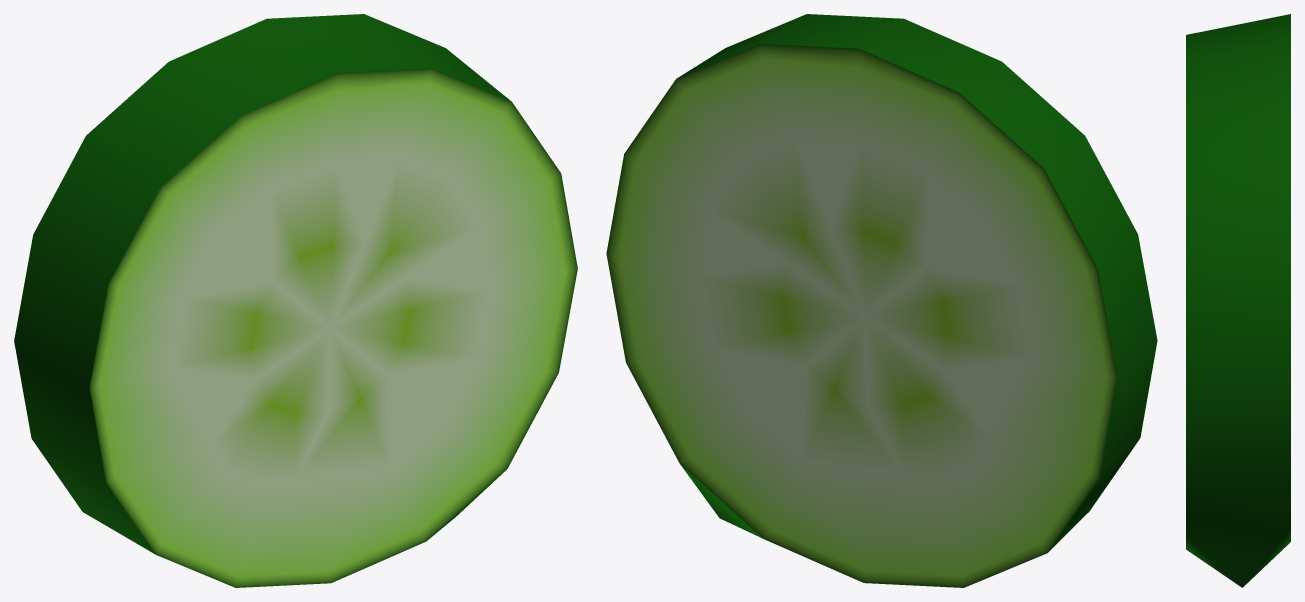
Rendered from Cucumber_Slice_05.fbx.
3 views of the same model, side by side, from view 1: azimuth 30°, elevation 25°; view 2: azimuth 150°, elevation 25°; view 3: azimuth 270°, elevation 25° (orthographic). The views are drawn at different scales.
Parts seen in each view (by area): view 1: Cucumber_Slice_05; view 2: Cucumber_Slice_05; view 3: Cucumber_Slice_05.
Part boxes in pixels (<box>): Cucumber_Slice_05: <box>14,14,577,587</box>; Cucumber_Slice_05: <box>606,14,1157,587</box>; Cucumber_Slice_05: <box>1186,14,1290,587</box>.
Bounding box in the file's own units: 4.39 × 4.34 × 0.8586.
